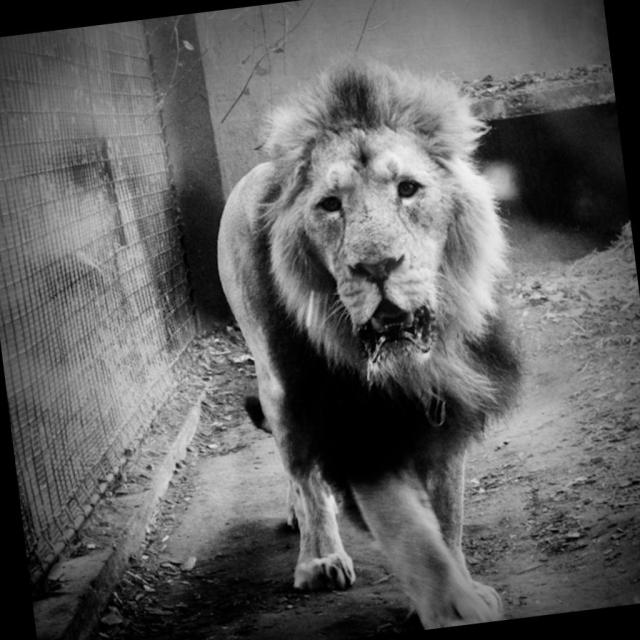Lion: (190, 32, 558, 639)
